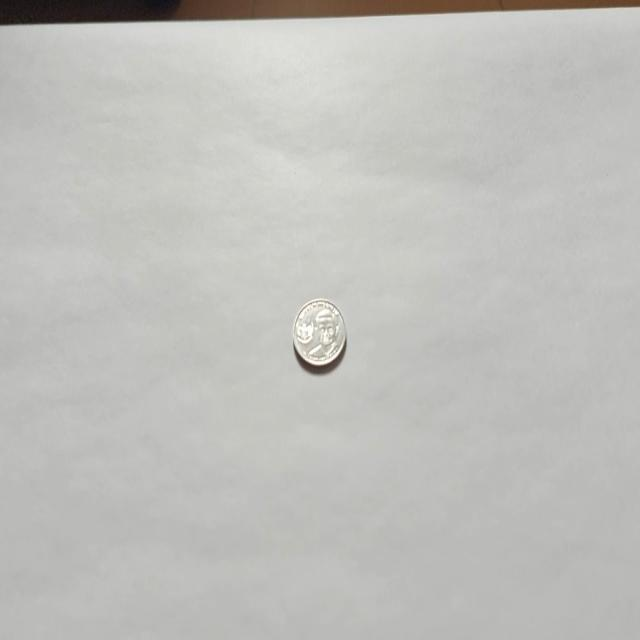seribu rupiah koin: (292, 296, 346, 368)
